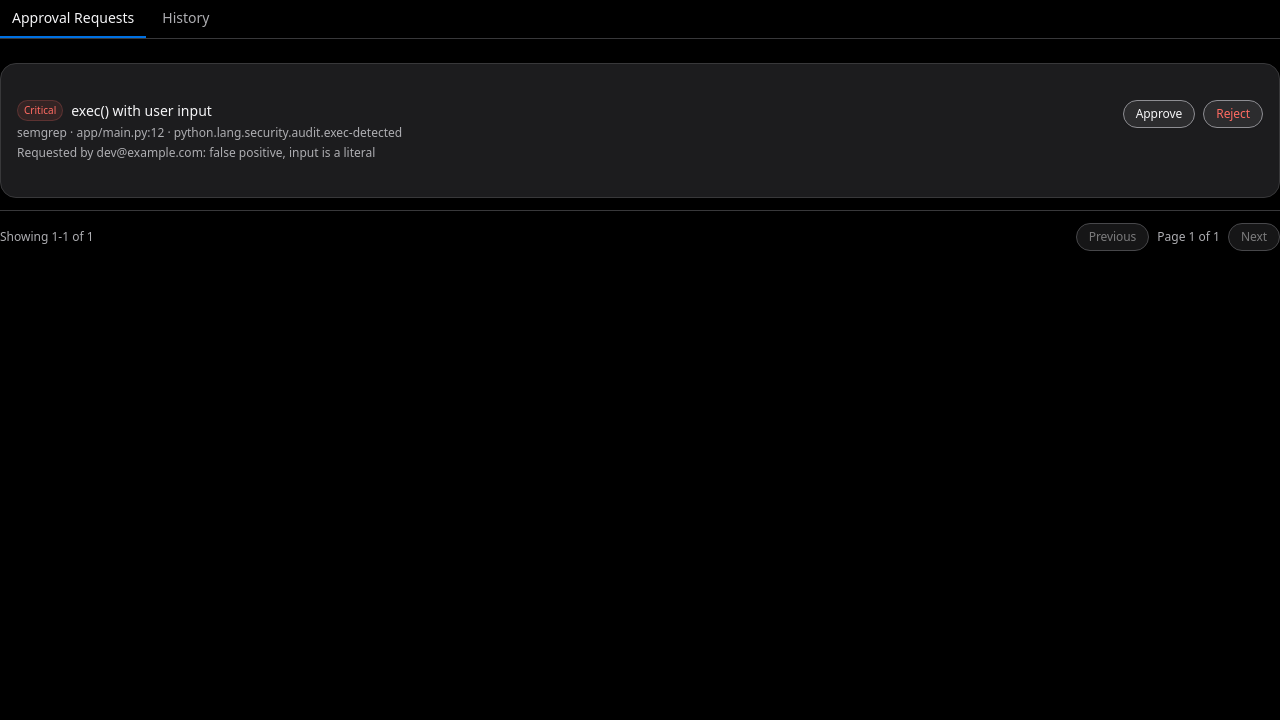
Scenario: ApprovalQueue › surfaces a failed approval instead of clearing silently
Click the button "Approve" at (1159, 114), box 1123,100 -> 1195,128
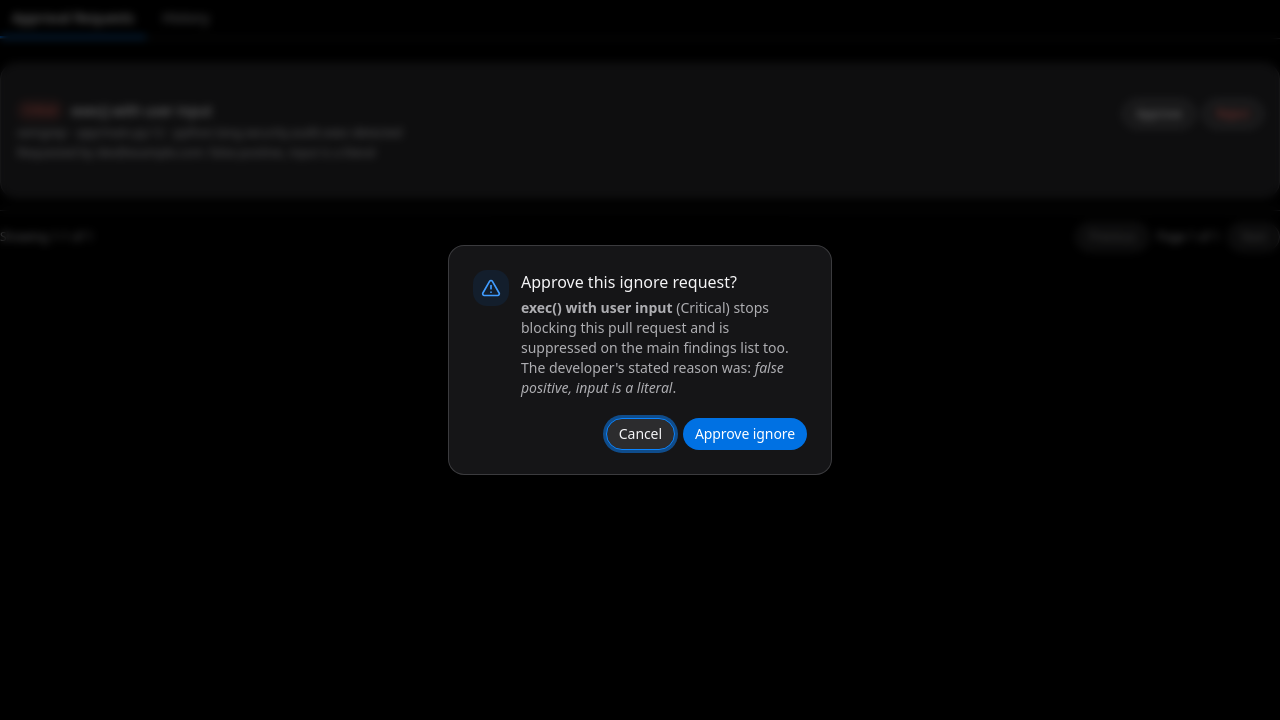
Click the button "Approve ignore" at (745, 434), box 683,418 -> 807,450
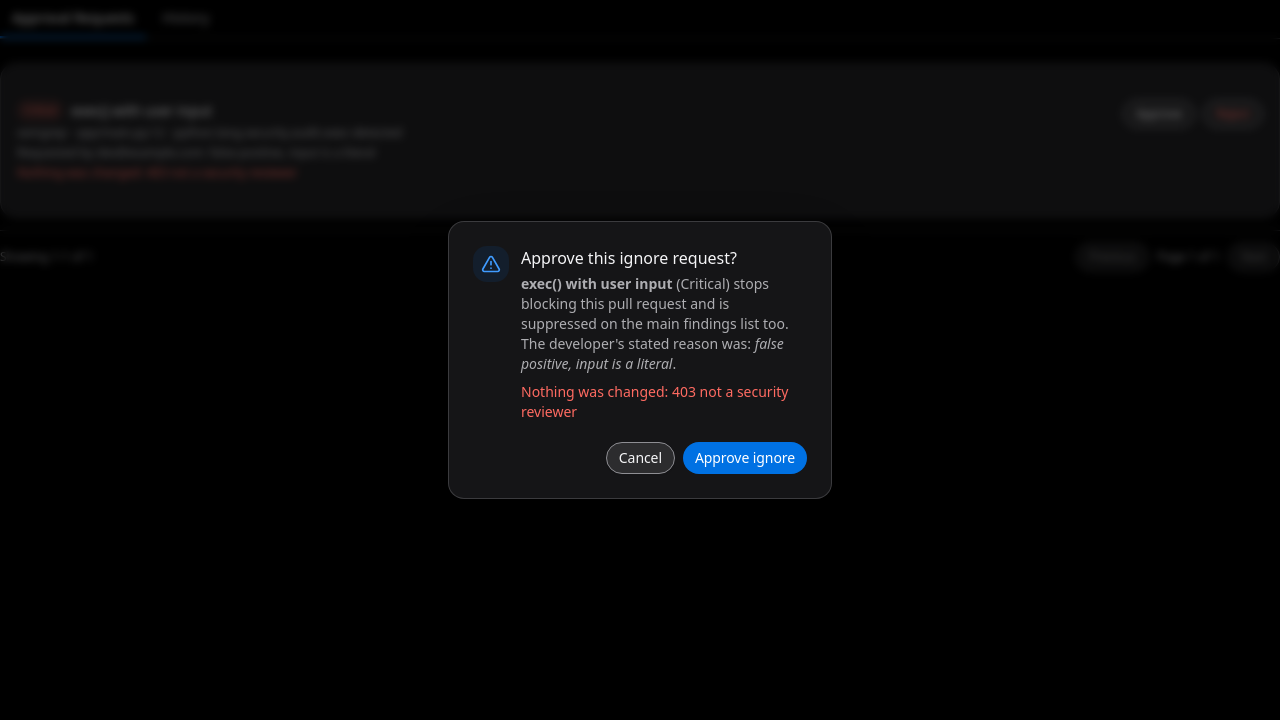
Result: the dialog is shown at 448,221 -> 832,499
Result: the text "Nothing was changed: 403 not a security reviewer" is shown at 17,164 -> 298,181
